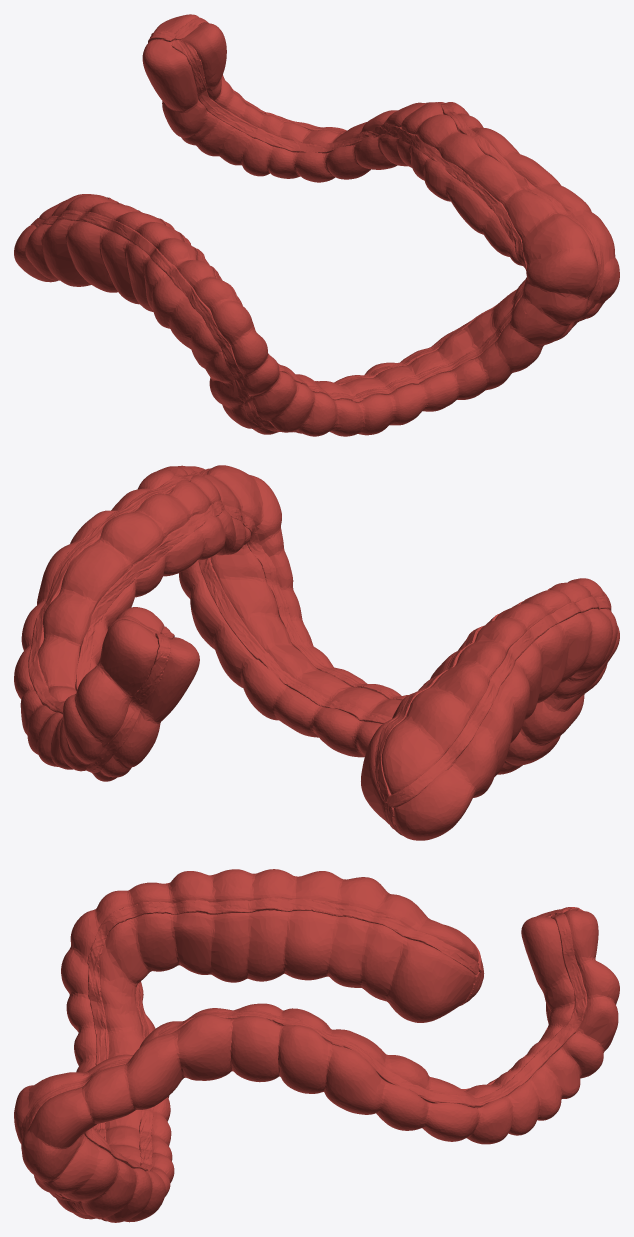
Rendered from intestines.glb.
The picture shows the model from 3 angles, top to bottom: view 1: azimuth 30°, elevation 25°; view 2: azimuth 150°, elevation 25°; view 3: azimuth 270°, elevation 25°; orthographic projection. The views are drawn at different scales.
Bounding box in the file's own units: 218 × 127 × 241.
